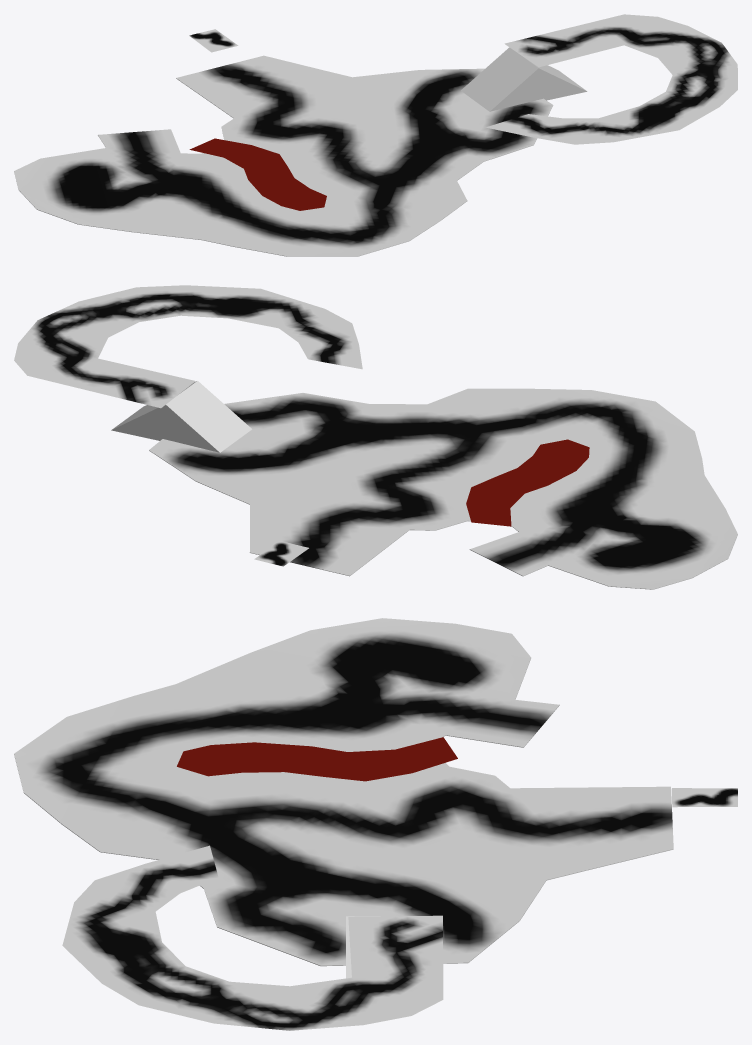
3 renders of one model, top to bottom at view 1: azimuth 30°, elevation 25°; view 2: azimuth 150°, elevation 25°; view 3: azimuth 270°, elevation 25°, orthographic. The views are drawn at different scales.
Visible parts, largest first — view 1: Main_Ground, Upper Level, Upper Level Ramp, LavaPool, Starting Hole_Walls; view 2: Main_Ground, Upper Level, Upper Level Ramp, LavaPool, Starting Hole_Walls; view 3: Main_Ground, Upper Level, LavaPool, Starting Hole_Walls.
Boxes of the visible parts, x1,y1,x2,y2 form: Main_Ground: (14,55,553,256); Upper Level: (485,14,737,144); Upper Level Ramp: (461,47,587,111); LavaPool: (189,138,326,210); Starting Hole_Walls: (189,29,238,52); Main_Ground: (149,388,737,589); Upper Level: (14,285,362,408); Upper Level Ramp: (111,381,251,452); LavaPool: (466,439,589,526); Starting Hole_Walls: (254,540,308,566); Main_Ground: (14,618,673,966); Upper Level: (62,845,443,1030); LavaPool: (177,737,457,781); Starting Hole_Walls: (672,788,737,807).
Size of the model in its own units: 175 by 9.06 by 117.
